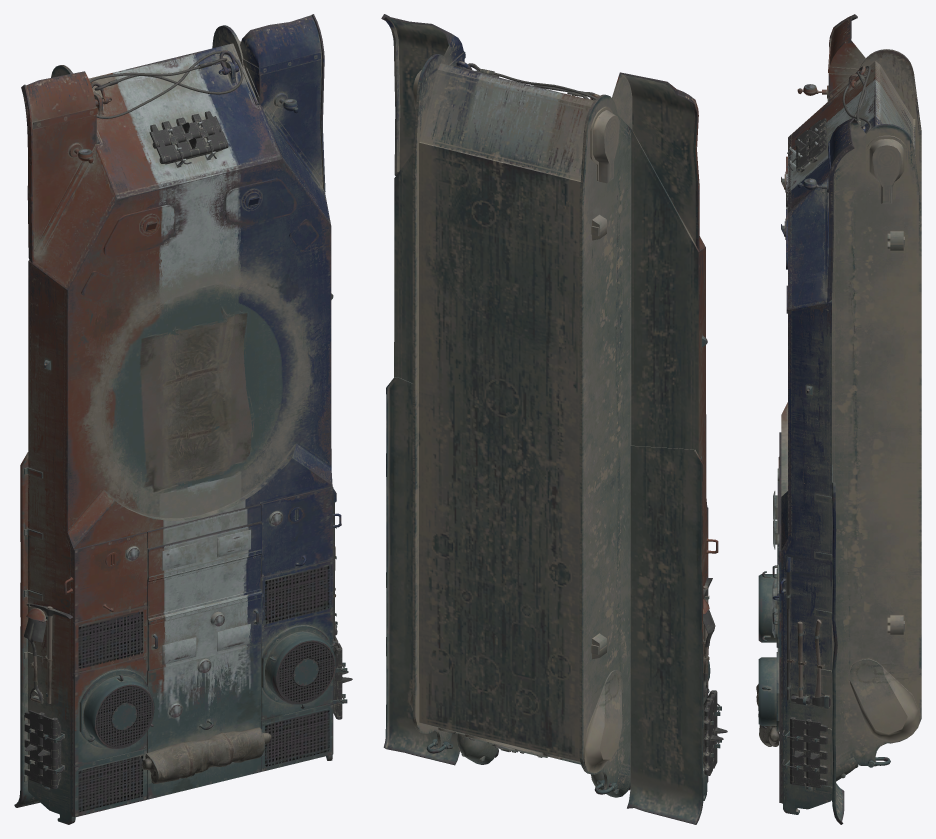
Rendered from Hull.glb.
3 renders of one model, left to right at view 1: azimuth 30°, elevation 25°; view 2: azimuth 150°, elevation 25°; view 3: azimuth 270°, elevation 25°, orthographic. The views are drawn at different scales.
Parts seen in each view (by area): view 1: set_0_group_0; view 2: set_0_group_0; view 3: set_0_group_0.
Part boxes in pixels (x1,y1,x2,y2): set_0_group_0: (14, 14, 352, 824); set_0_group_0: (381, 14, 727, 824); set_0_group_0: (756, 14, 921, 824).
Size of the model in its own units: 3.57 by 7.6 by 1.68.
Materials: 1 (1 with a texture image).
